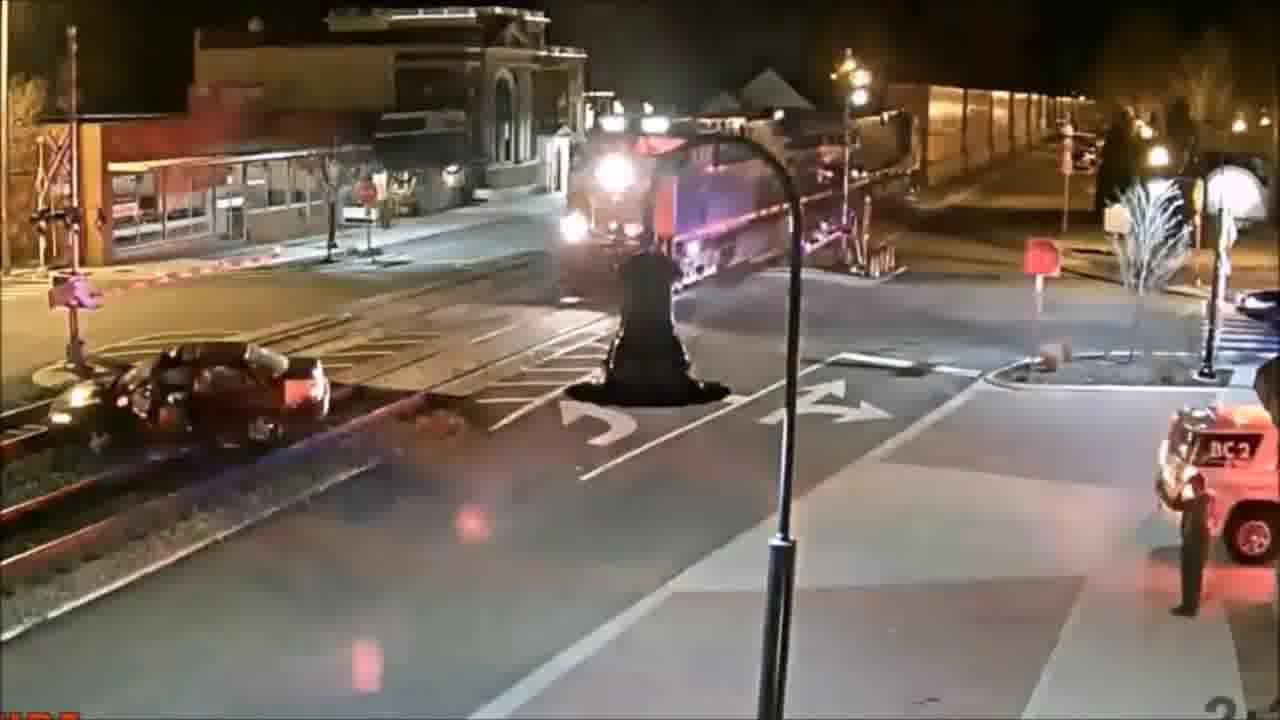crossing railway track: (38, 340, 352, 465)
